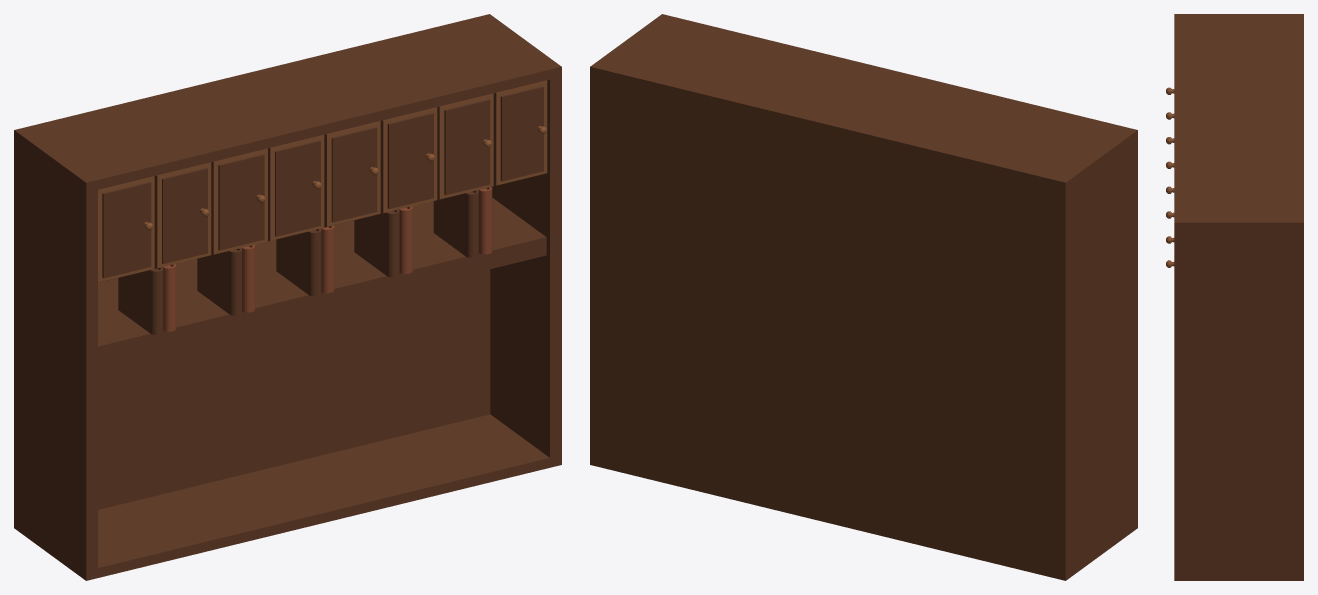
The model's file is DrawerShelf.fbx.
3 renders of one model, left to right at view 1: azimuth 30°, elevation 25°; view 2: azimuth 150°, elevation 25°; view 3: azimuth 270°, elevation 25°, orthographic. The views are drawn at different scales.
Visible parts, largest first — view 1: DrawerShelf; view 2: DrawerShelf; view 3: DrawerShelf.
Part boxes in pixels (<box>): DrawerShelf: <box>14,14,561,580</box>; DrawerShelf: <box>590,14,1137,580</box>; DrawerShelf: <box>1166,14,1303,580</box>.
Size of the model in its own units: 4000 by 3200 by 1116.
